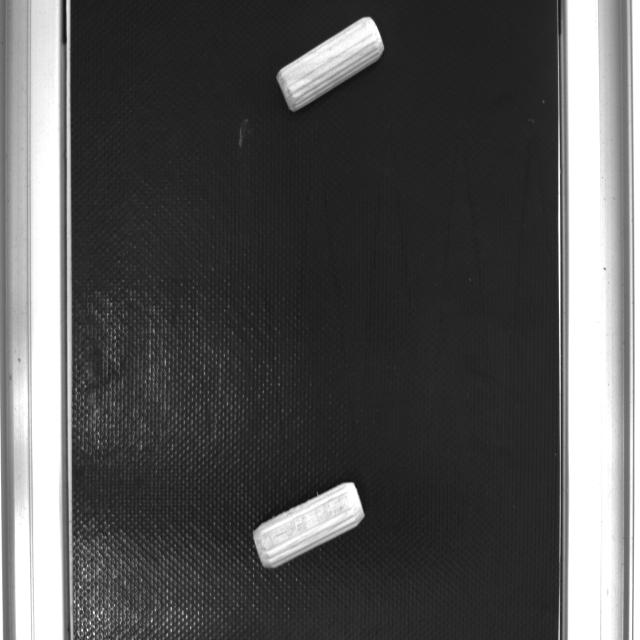Chot go: (247, 476, 368, 574), (274, 12, 386, 114)
